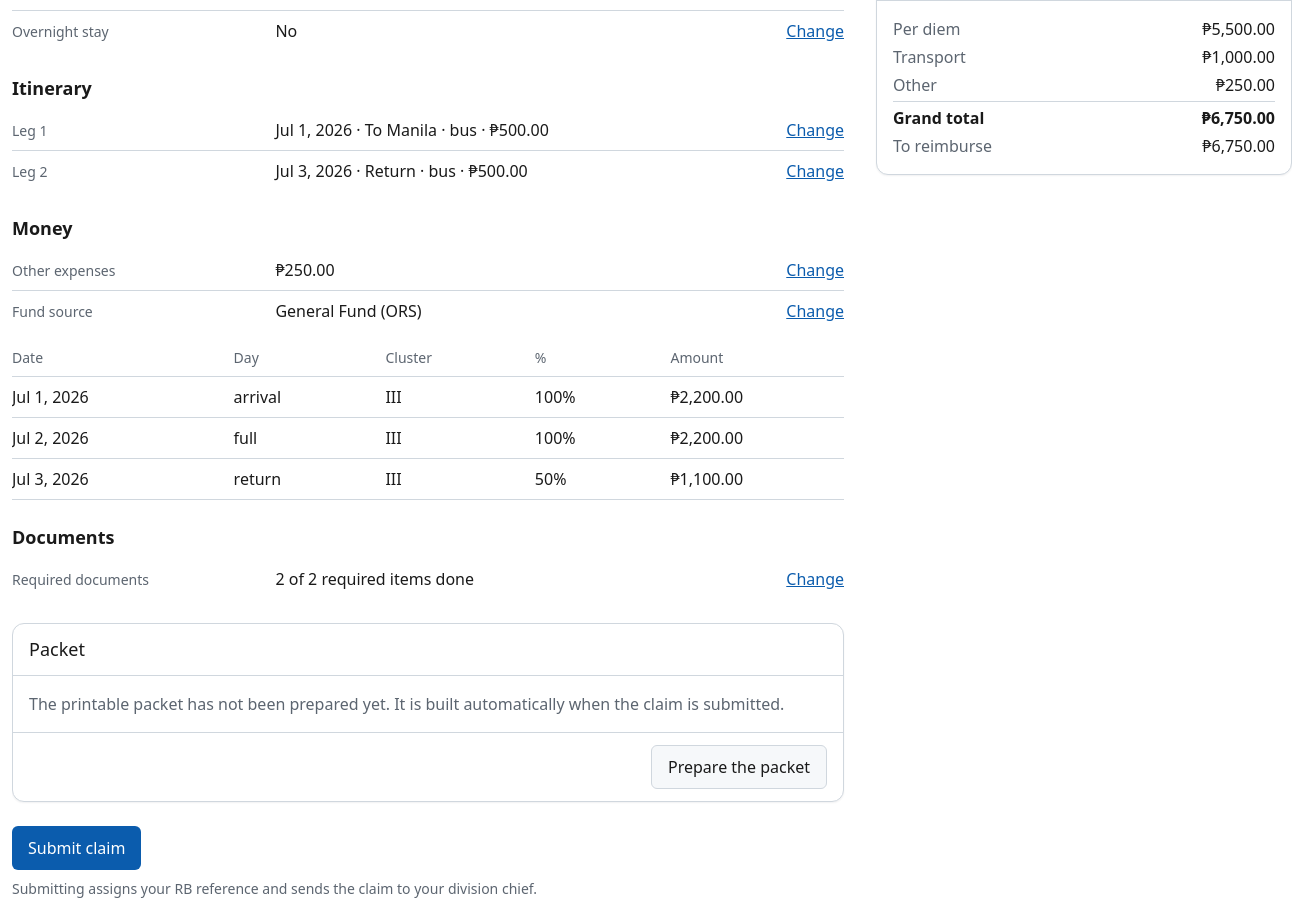
Test: ReviewStepPage › submits and lands on the confirmation with the RB reference
(page scrolled)
Click the button "Submit claim": (77, 848) [12, 826, 141, 870]
(page scrolled)
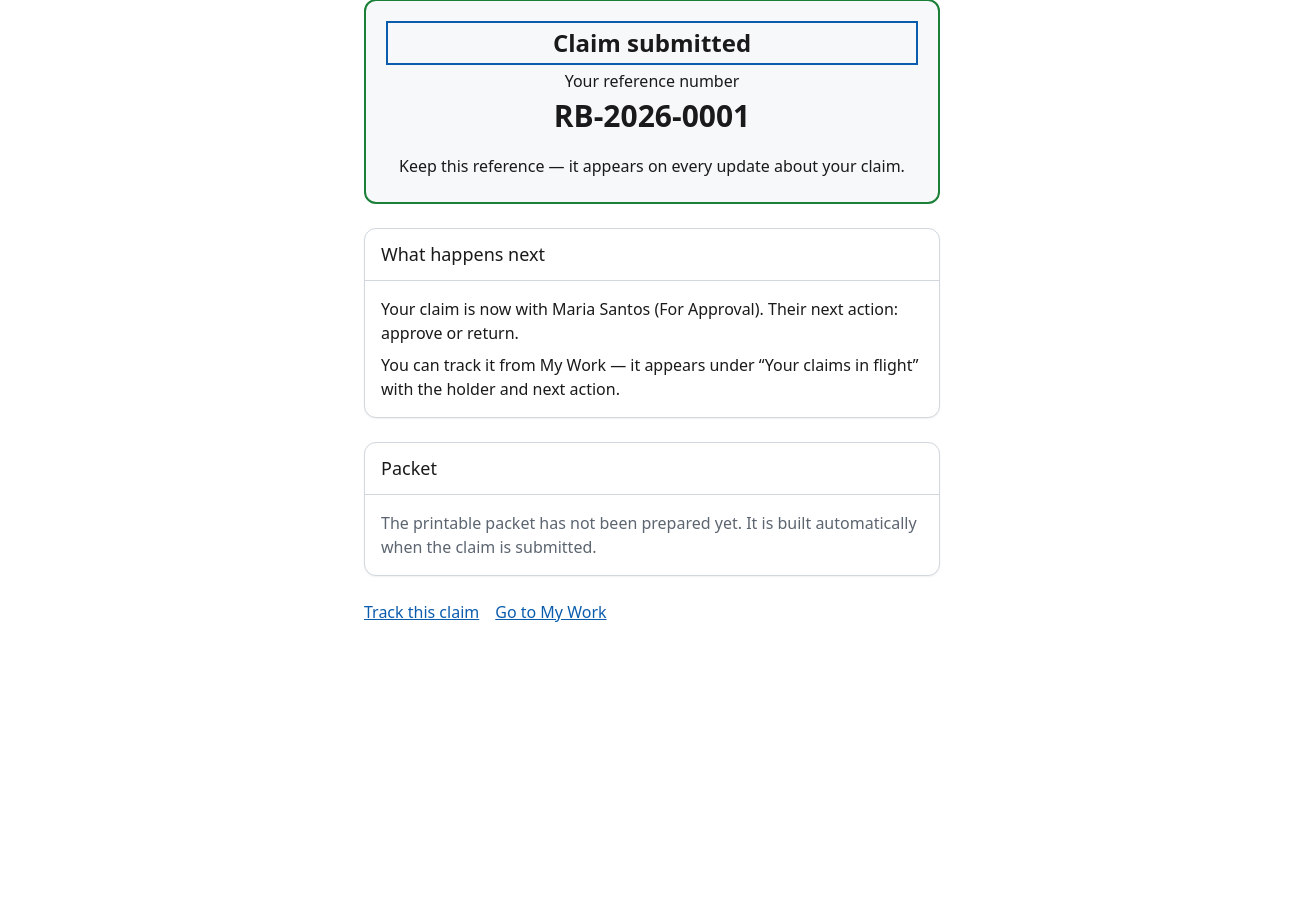
Expected: the heading "Claim submitted" is shown, [553, 26, 751, 59]
Expected: the text "RB-2026-0001" is shown, [554, 95, 750, 136]
Expected: the text "Maria Santos" is shown, [552, 298, 650, 320]
